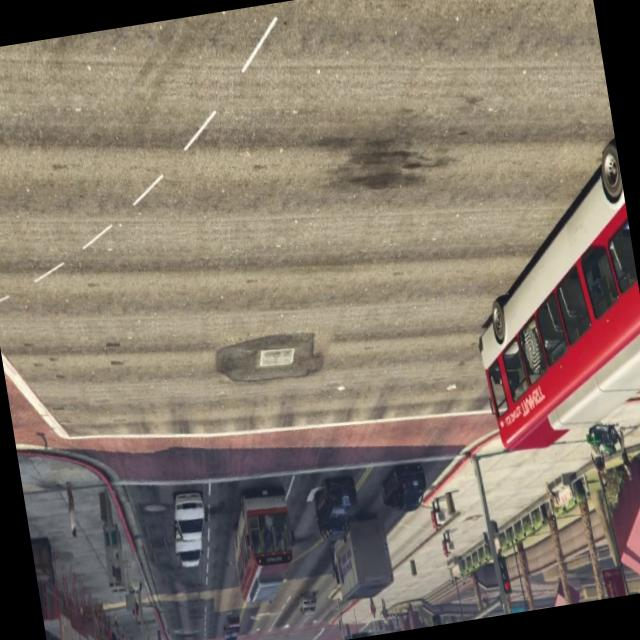Red-Signal: (494, 543, 518, 606), (425, 604, 447, 627)
